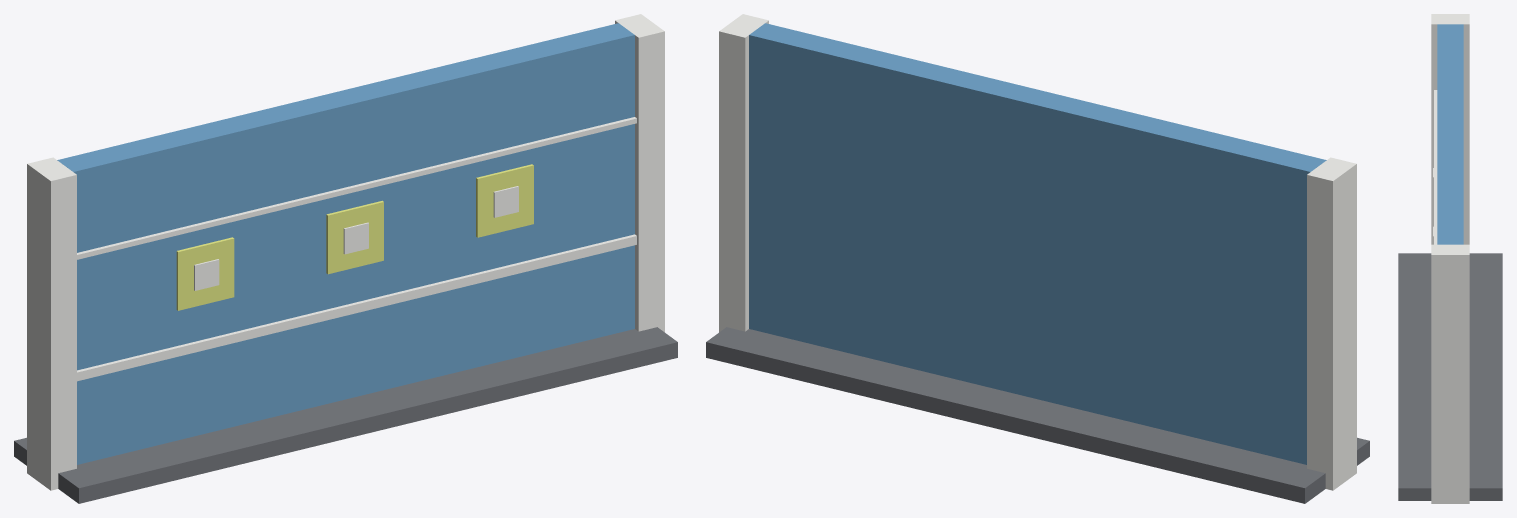
File: tennis-club-and-courts-practice-wall-69afc154__33631.glb
3 views of the same model, side by side, from view 1: azimuth 30°, elevation 25°; view 2: azimuth 150°, elevation 25°; view 3: azimuth 270°, elevation 25° (orthographic). The views are drawn at different scales.
Visible parts, largest first — view 1: practice-wall; view 2: practice-wall; view 3: practice-wall.
Boxes of the visible parts, box(x1,y1,x2,y2) form: practice-wall: box(14, 14, 677, 503); practice-wall: box(706, 14, 1369, 503); practice-wall: box(1398, 14, 1502, 503).
Size of the model in its own units: 6.56 by 3.16 by 1.2.
